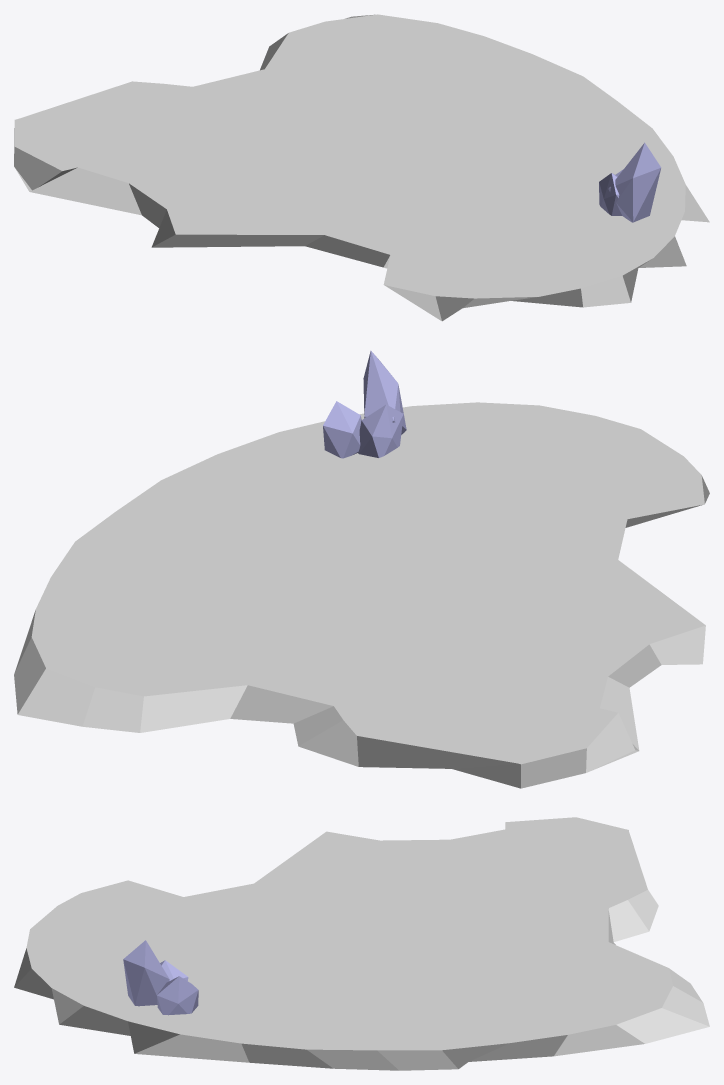
The model's file is mainlandNew.glb.
3 renders of one model, top to bottom at view 1: azimuth 30°, elevation 25°; view 2: azimuth 150°, elevation 25°; view 3: azimuth 270°, elevation 25°, orthographic. The views are drawn at different scales.
Visible parts, largest first — view 1: Cylinder, Icosphere.001, Icosphere.002; view 2: Cylinder, Icosphere.002, Icosphere.001, Icosphere; view 3: Cylinder, Icosphere.001, Icosphere.
Boxes of the visible parts, x1,y1,x2,y2 form: Cylinder: [14, 14, 709, 321]; Icosphere.001: [608, 142, 661, 222]; Icosphere.002: [599, 173, 622, 215]; Cylinder: [14, 402, 709, 788]; Icosphere.002: [358, 404, 403, 457]; Icosphere.001: [363, 350, 406, 434]; Icosphere: [323, 401, 361, 458]; Cylinder: [14, 817, 709, 1070]; Icosphere.001: [123, 940, 169, 1006]; Icosphere: [157, 976, 198, 1015].
Size of the model in its own units: 323 by 53.92 by 394.
